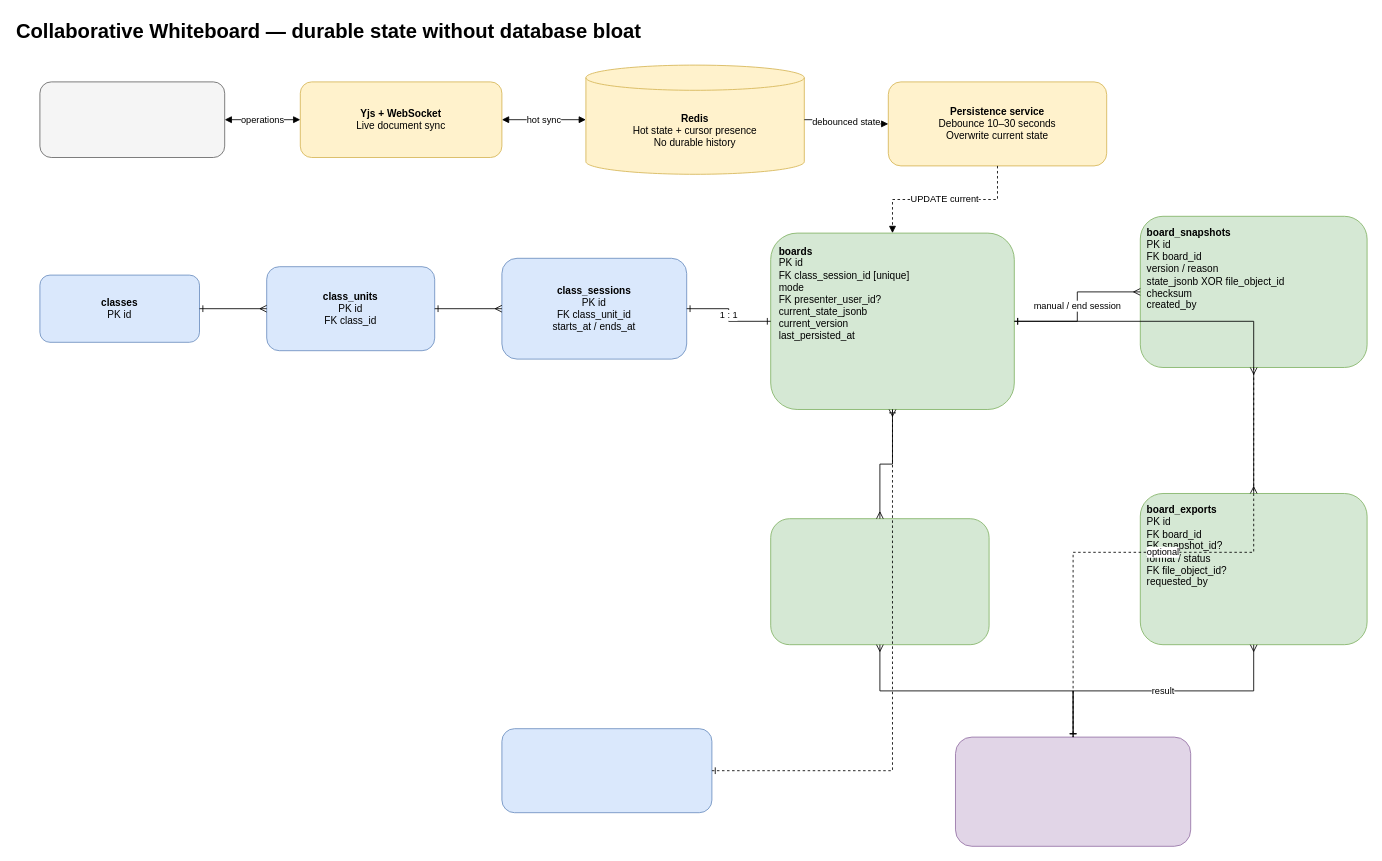
Image size: 1382x861. Some labels were removed from this diagram. Each missing label, with the centre of its shape:
board_assets PK id FK board_id FK file_object_id element_id / asset_type: the point at 879,581
file_objects Images / PDF pages Snapshots when large PNG/PDF exports: the point at 1073,791
Konva clients Mentor / Students: the point at 132,119
users presenter / creator / requester: the point at 606,770
